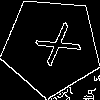X: (26, 21, 82, 73)
